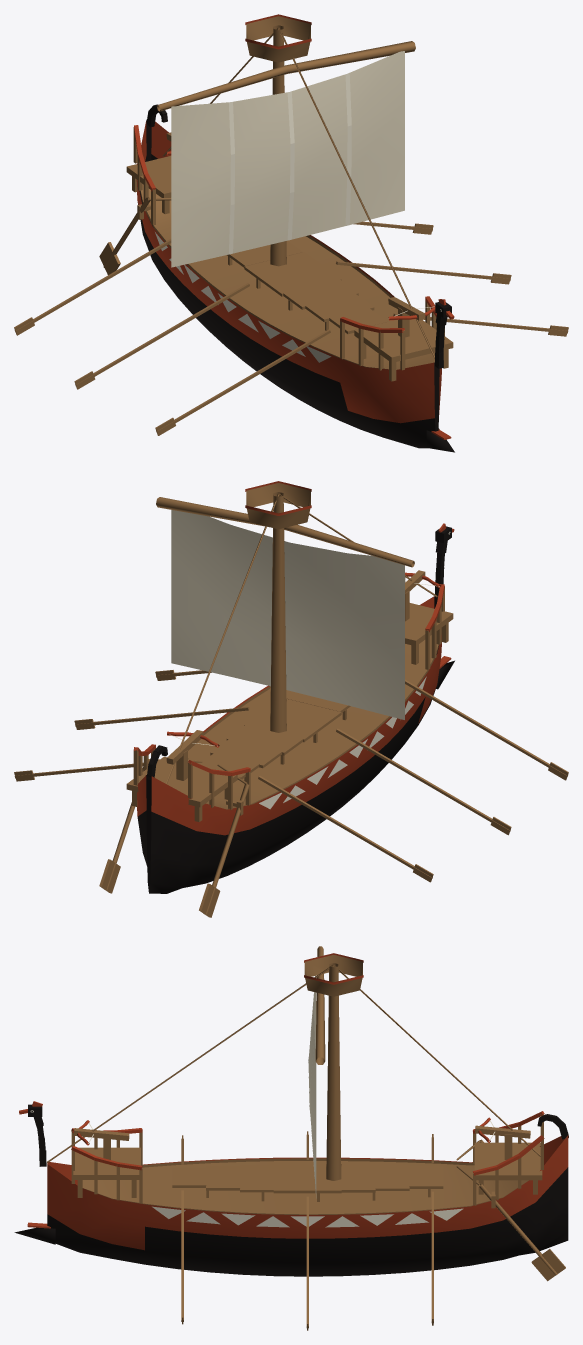
The model's file is ship_shipkiller_blockout_LOD1.obj.
3 views of the same model, one above another, from view 1: azimuth 30°, elevation 25°; view 2: azimuth 150°, elevation 25°; view 3: azimuth 270°, elevation 25° (orthographic). The views are drawn at different scales.
Parts seen in each view (by area): view 1: ship_shipkiller_blockout_LOD1; view 2: ship_shipkiller_blockout_LOD1; view 3: ship_shipkiller_blockout_LOD1.
Part boxes in pixels (x1,y1,x2,y2): ship_shipkiller_blockout_LOD1: (14, 14, 568, 452); ship_shipkiller_blockout_LOD1: (14, 481, 568, 917); ship_shipkiller_blockout_LOD1: (14, 946, 568, 1330).
Size of the model in its own units: 16.45 by 12.18 by 20.03.
